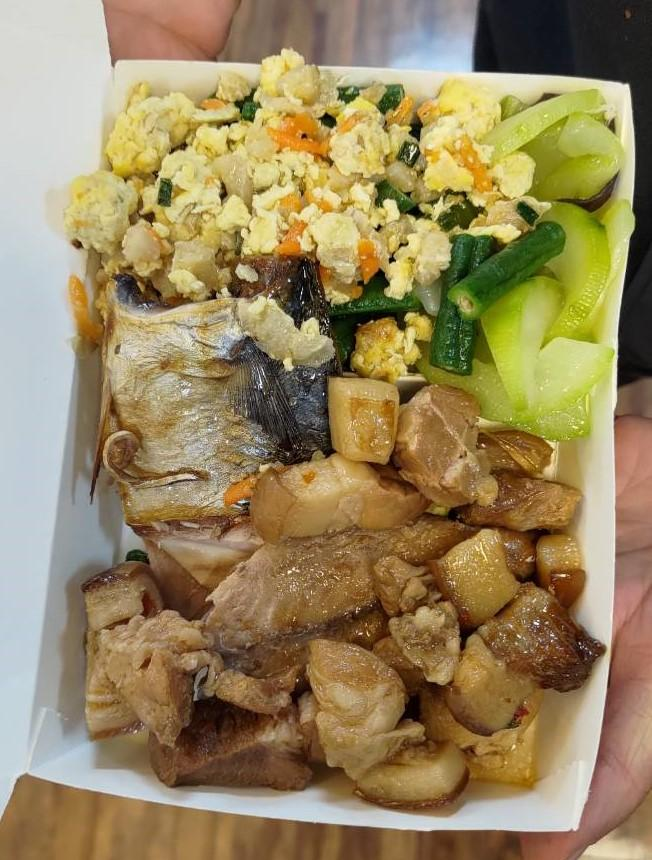big grilled chicken leg: (26, 55, 642, 839)
braised fish fillet: (69, 78, 506, 296), (466, 92, 622, 429), (434, 213, 570, 366)
braised pork: (76, 375, 602, 809)
braised pork ribs: (92, 260, 345, 584)
